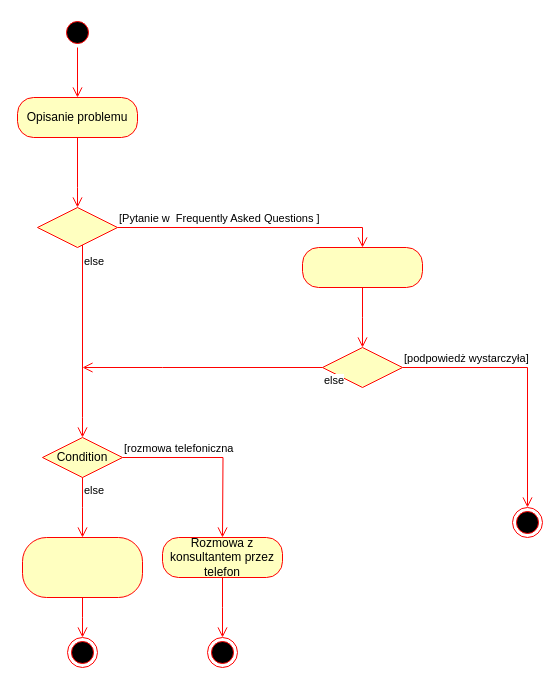
This 560x685 diagram has some shape labels left out. The shapes that lost their labels are listed below. From the top down, each one's centre as x and y in pixels, then its label:
At pixel 362 267: "Wyświetlenie pomocy do wybranego pytania".
At pixel 82 567: "Rozmowa z konsultantem przez komnunikator tekstowy".
